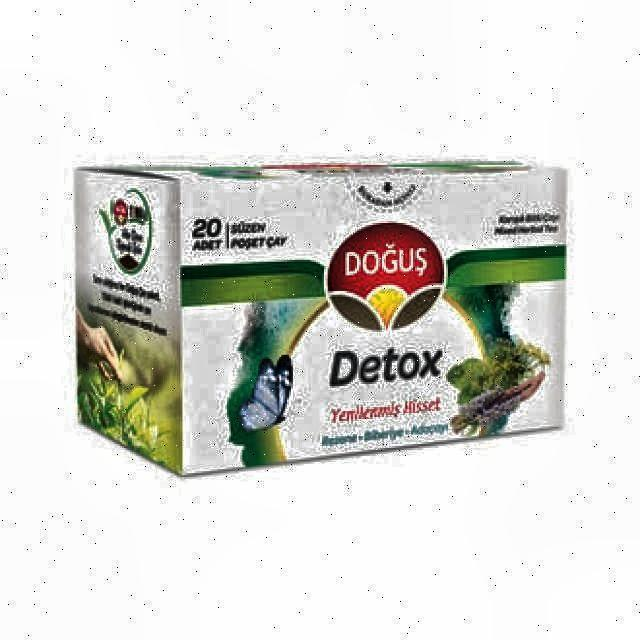cardboard: (71, 159, 571, 480)
